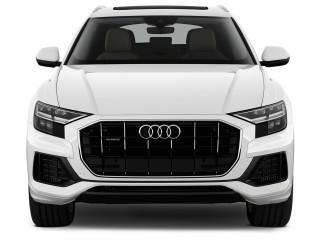Audi: (132, 119, 188, 147)
